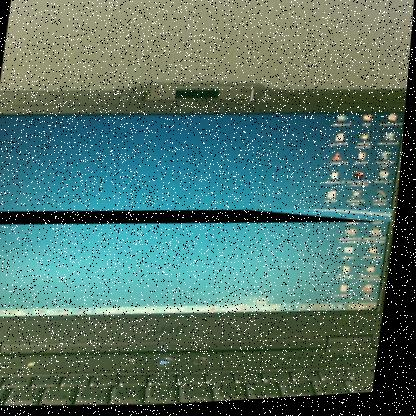lines: (0, 192, 397, 247)
